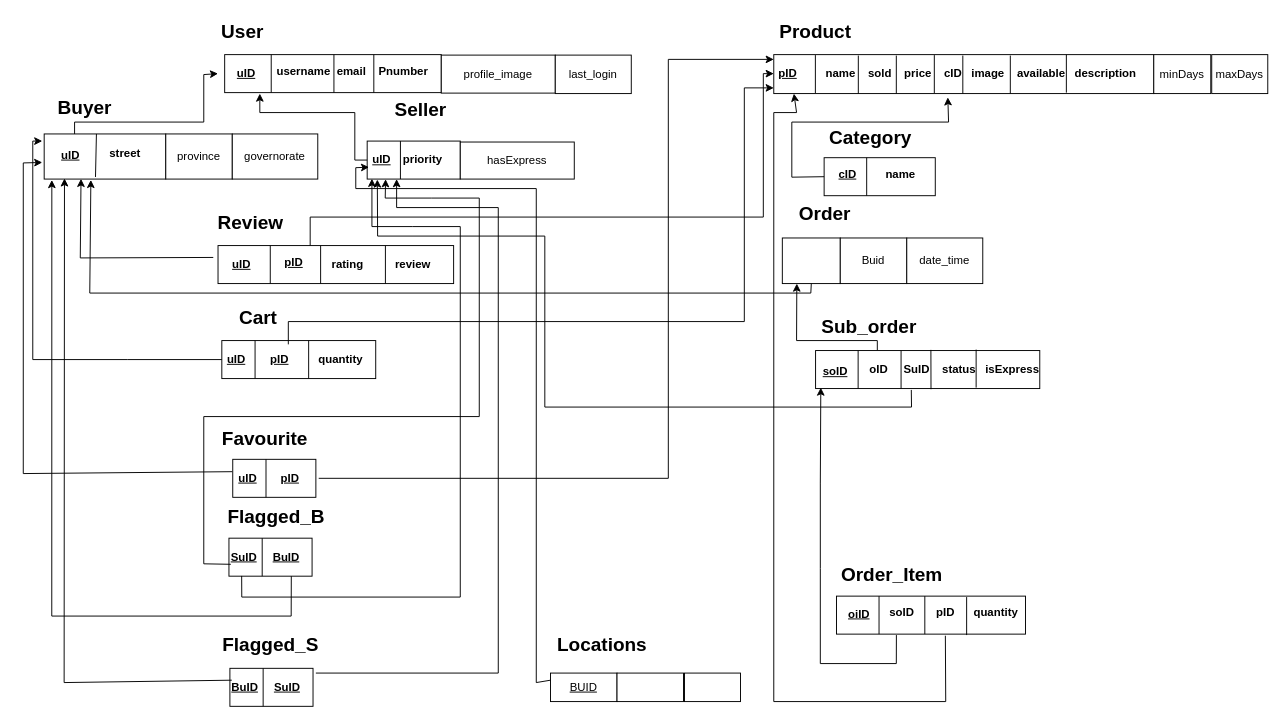
Image size: 1284x726. Some labels were removed from this diagram. Here are the shapes that lost their labels. From the top down, the box of each, then its label:
(781, 237, 840, 284): oID
(616, 672, 684, 702): location
(684, 672, 741, 702): cost
